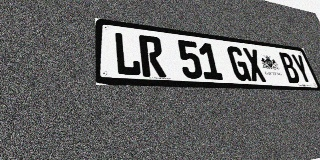1: (197, 42, 223, 80)
5: (177, 39, 204, 79)
B: (277, 52, 302, 83)
G: (226, 46, 252, 81)
L: (113, 32, 142, 76)
R: (138, 35, 166, 78)
X: (242, 48, 267, 82)
Y: (290, 54, 314, 84)
